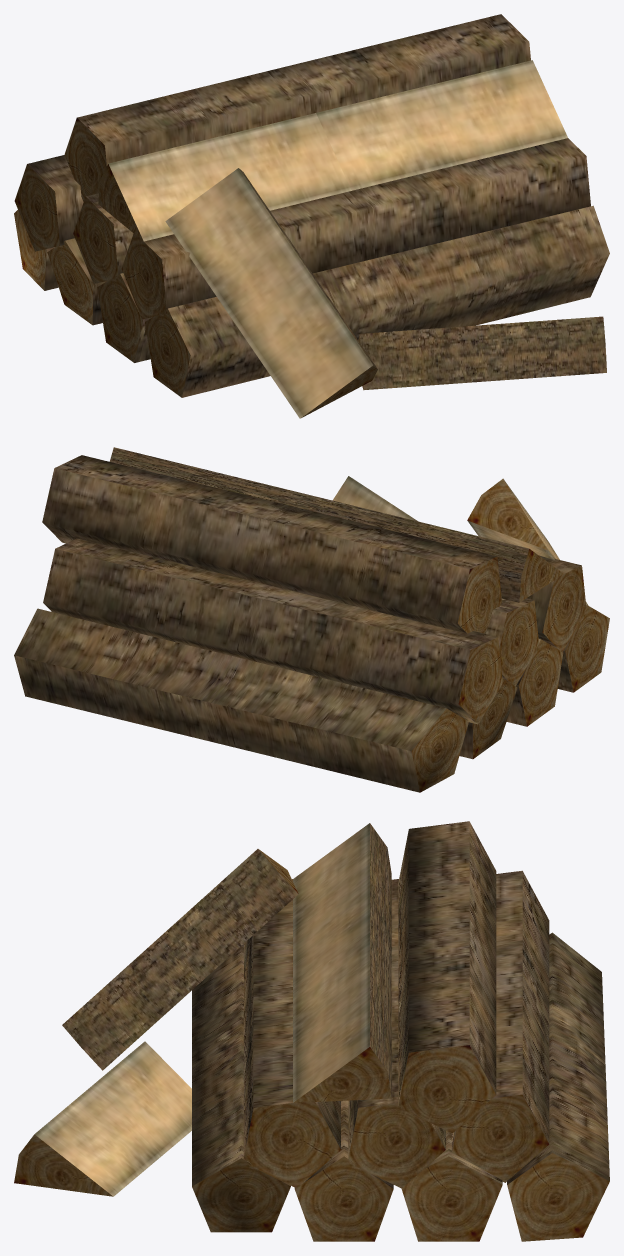
File: Log_stack_c.fbx
The picture shows the model from 3 angles, top to bottom: view 1: azimuth 30°, elevation 25°; view 2: azimuth 150°, elevation 25°; view 3: azimuth 270°, elevation 25°; orthographic projection. The views are drawn at different scales.
Visible parts, largest first — view 1: log8, log4, log5, log9, log10, log11, log7, log6, log3, log2, log1; view 2: log1, log9, log7, log8, log10, log5, log6, log3, log4, log2, log11; view 3: log9, log8, log1, log7, log10, log11, log5, log4, log6, log2, log3.
Part boxes in pixels (x1,y1,x2,y2): log8: (98,60,567,241); log4: (145,205,609,397); log5: (121,138,590,319); log9: (64,14,530,201); log10: (165,168,377,418); log11: (358,316,606,390); log7: (14,155,83,251); log6: (73,193,133,283); log3: (97,273,152,362); log2: (47,238,107,325); log1: (14,210,58,290); log1: (14,608,468,792); log9: (42,455,501,633); log7: (43,538,502,724); log8: (109,447,563,602); log10: (467,478,588,605); log5: (527,555,586,652); log6: (484,598,538,685); log3: (506,639,563,726); log4: (557,605,609,692); log2: (459,678,517,759); log11: (332,476,417,521); log9: (398,821,496,1133); log8: (293,823,391,1102); log1: (507,932,609,1241); log7: (452,870,549,1182); log10: (62,849,298,1070); log11: (14,1041,191,1196); log5: (243,879,340,1188); log4: (192,944,290,1232); log6: (348,879,445,1188); log2: (401,1130,502,1241); log3: (294,1100,393,1241).
Size of the model in its own units: 539 by 225 by 572.
Materials: 1 (1 with a texture image).
